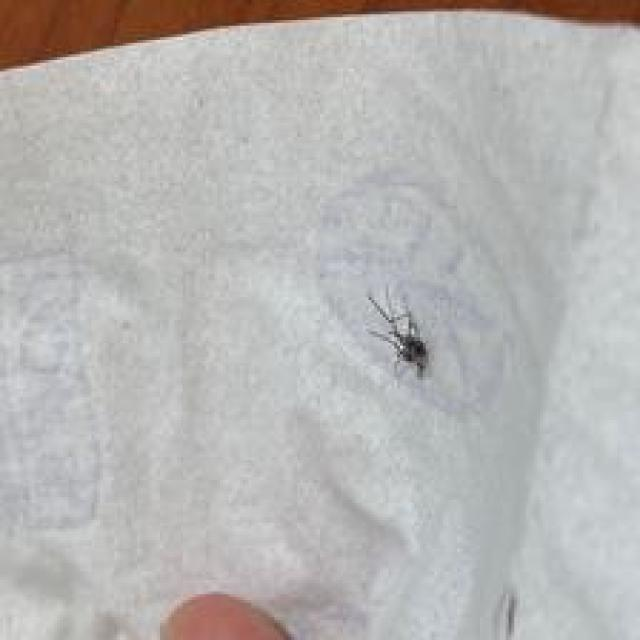Aedes albopictus: (366, 283, 431, 380)
